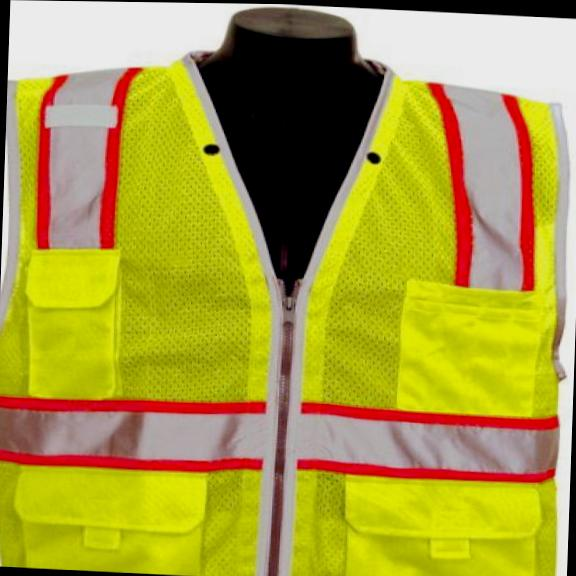safety_vest: (0, 49, 575, 576)
